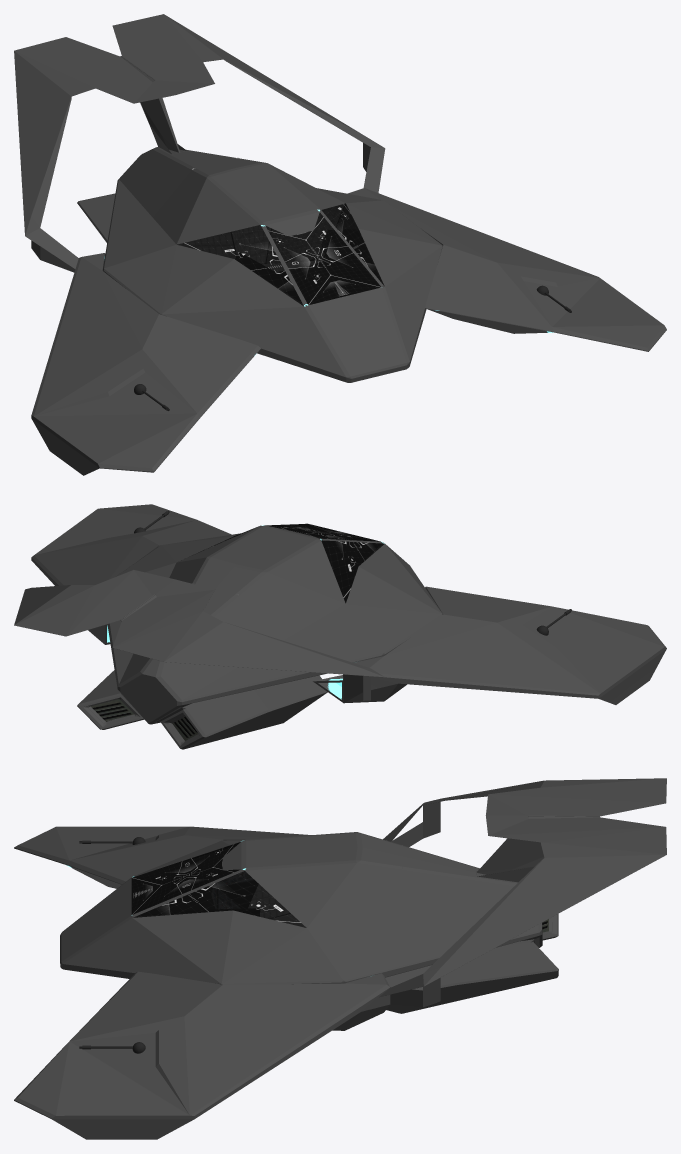
The model's file is army_jet.glb.
3 renders of one model, top to bottom at view 1: azimuth 30°, elevation 25°; view 2: azimuth 150°, elevation 25°; view 3: azimuth 270°, elevation 25°, orthographic. The views are drawn at different scales.
Parts seen in each view (by area): view 1: wings and tail, main chasis, main chasis.001; view 2: wings and tail, main chasis, main chasis.001; view 3: wings and tail, main chasis, main chasis.001, Cylinder.
Boxes of the visible parts, x1,y1,x2,y2 form: wings and tail: (14, 14, 666, 475); main chasis: (77, 147, 442, 382); main chasis.001: (177, 203, 384, 306); wings and tail: (14, 504, 666, 704); main chasis: (77, 525, 442, 749); main chasis.001: (181, 523, 384, 603); wings and tail: (14, 778, 666, 1139); main chasis: (60, 832, 558, 1013); main chasis.001: (131, 840, 306, 927); Cylinder: (79, 837, 145, 1053).
Bounding box in the file's own units: 3.78 × 1.1 × 3.6.
8 materials, 4 textured.
